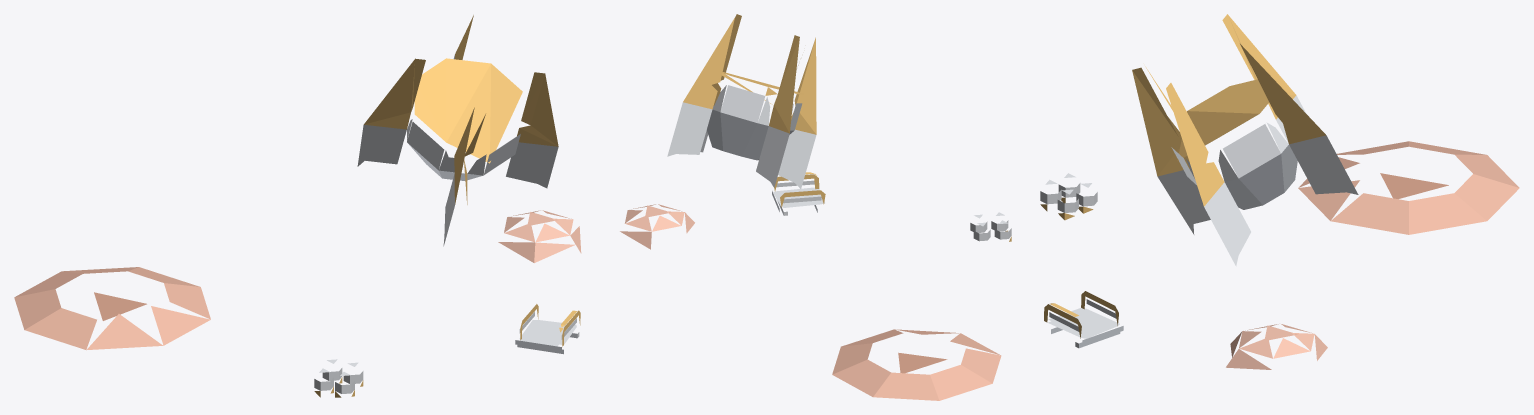
The model's file is poi_crashed_freighter_lod1.glb.
3 views of the same model, side by side, from view 1: azimuth 30°, elevation 25°; view 2: azimuth 150°, elevation 25°; view 3: azimuth 270°, elevation 25° (orthographic). The views are drawn at different scales.
Visible parts, largest first — view 1: rocket_baseA.002, craterLarge.002, meteor_half.002, barrels_rail.002; view 2: rocket_baseA.002, craterLarge.002, meteor_half.002, barrels_rail.002; view 3: rocket_baseA.002, craterLarge.002, barrels_rail.002, meteor_half.002.
Part boxes in pixels (box(x1,y1,x2,y2)): rocket_baseA.002: box(357, 15, 558, 246); craterLarge.002: box(14, 267, 210, 350); meteor_half.002: box(498, 210, 581, 262); barrels_rail.002: box(515, 304, 580, 354); rocket_baseA.002: box(667, 14, 816, 188); craterLarge.002: box(832, 329, 1001, 400); meteor_half.002: box(620, 204, 694, 249); barrels_rail.002: box(772, 172, 825, 215); rocket_baseA.002: box(1132, 14, 1358, 266); craterLarge.002: box(1298, 141, 1519, 234); barrels_rail.002: box(1044, 291, 1123, 348); meteor_half.002: box(1226, 324, 1327, 369).
Bounding box in the file's own units: 5.75 × 3.09 × 4.41.
